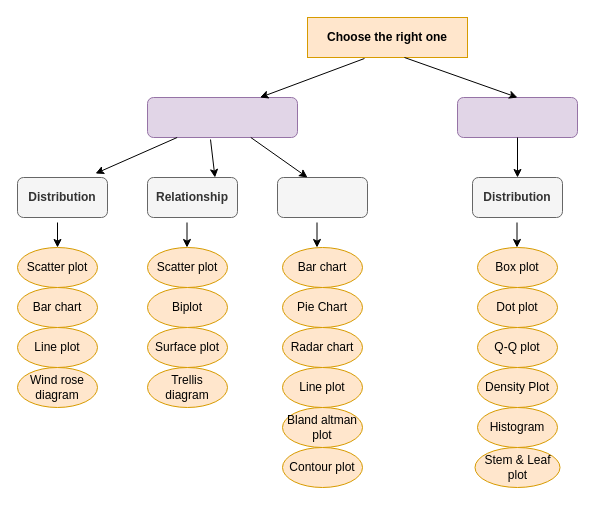
The diagram is 595 pixels wide and 505 high, and some of its shapes have lost their labels. The centre of each missing label's shape, as x and y in pixels:
"Comparison" belongs at (x=322, y=197).
"Just one variable" belongs at (x=517, y=117).
"More than one variable" belongs at (x=222, y=117).
